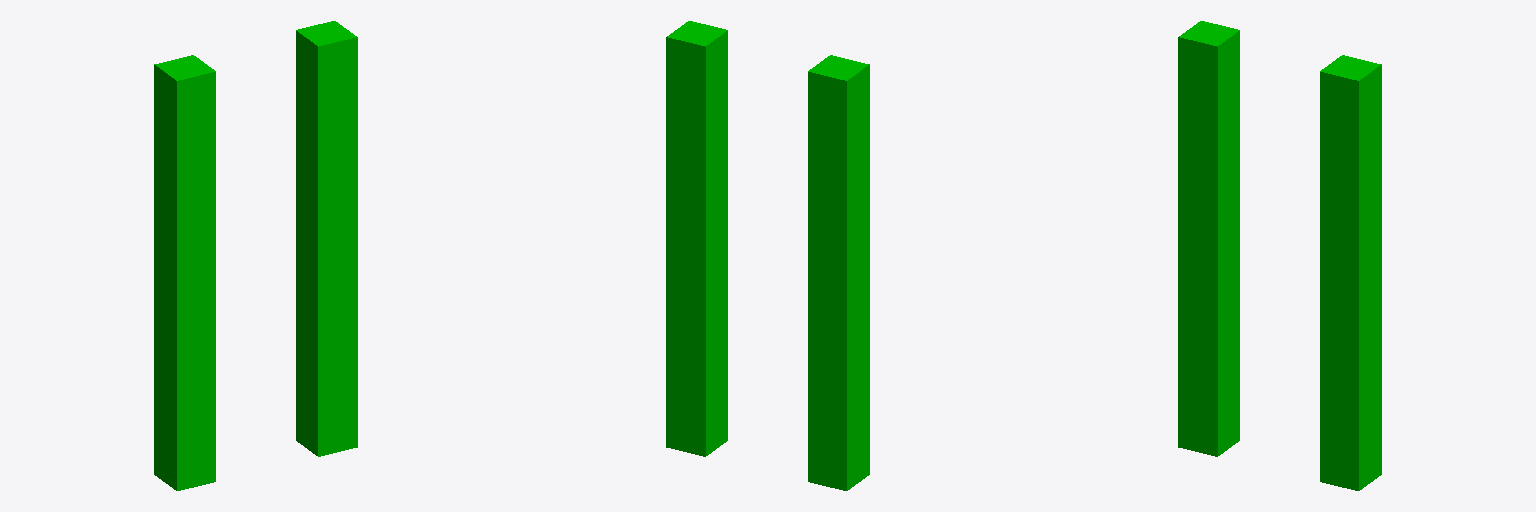
The robot description file, URDF, robot "origins":
<?xml version="1.0"?>
<robot name="origins">
  <material name="blue">
    <color rgba="0 0 0.8 1"/>
  </material>
  <material name="red">
    <color rgba="0.8 0 0 1"/>
  </material>
    <material name="green">
    <color rgba="0 0.8 0 1"/>
  </material>
  <link name="base_window">
    <visual>
      <origin rpy="1.5708 0 0" xyz="0 0 0"/>
      <geometry>
        <mesh filename="/meshes/window.dae"/>
      </geometry>
    </visual>
    <inertial>
        <mass value="10"/>
        <inertia ixx="0.015" iyy="0.0375" izz="0.0375" ixy="0" ixz="0" iyz="0"/>
     </inertial> 
    <collision>
      <origin rpy="1.5708 0 0" xyz="0 -0.01 0.052"/>
      <geometry>
        <box size="0.075 1.415 1.7"/>
      </geometry>
    </collision>
  </link>


<link name="base1">
    <visual>
       <origin rpy="0 0 0" xyz="0 0 0"/>
      <geometry>
        <box size="0.05 0.05 0.5"/>
      </geometry>
      <material name="green"/>
    </visual>
     <inertial>
        <mass value="0.116"/>
        <inertia ixx="0.015" iyy="0.0375" izz="0.0375" ixy="0" ixz="0" iyz="0"/>
     </inertial> 
    <collision>
      <geometry>
       <box size="0.05 0.05 0.5"/>
      </geometry>
    </collision>
  </link>


  <joint name="connect1" type="fixed">
    <parent link="base_window"/>
    <child link="base1"/>
    <origin xyz="0.09 0 0.8"/>
  </joint>

<link name="base2">
    <visual>
       <origin rpy="0 0 0" xyz="0 0 0"/>
      <geometry>
        <box size="0.05 0.05 0.5"/>
      </geometry>
      <material name="green"/>
    </visual>
     <inertial>
        <mass value="0.116"/>
        <inertia ixx="0.015" iyy="0.0375" izz="0.0375" ixy="0" ixz="0" iyz="0"/>
     </inertial> 
    <collision>
      <geometry>
       <box size="0.05 0.05 0.5"/>
      </geometry>
    </collision>
  </link>


  <joint name="connect2" type="fixed">
    <parent link="base_window"/>
    <child link="base2"/>
    <origin xyz="-0.09 0 0.8"/>
  </joint>


    
</robot>

--- Render facts (derived) ---
3 views of the same robot in one strip: view 1: azimuth 30°, elevation 25°; view 2: azimuth 150°, elevation 25°; view 3: azimuth 330°, elevation 25° (orthographic).
Robot: origins — 3 links, 2 joints (2 fixed); root link base_window; default pose: every joint at zero.
Visible links, largest first — view 1: base1, base2; view 2: base1, base2; view 3: base1, base2.
Link boxes in pixels (box(x1,y1,x2,y2)): base1: box(296, 21, 357, 456); base2: box(154, 55, 215, 490); base1: box(666, 21, 727, 456); base2: box(808, 55, 869, 490); base1: box(1320, 55, 1381, 490); base2: box(1178, 21, 1239, 456).
Size in the robot's own frame: 0.23 by 0.05 by 0.5 metres.
Geometry: only primitive shapes (box / cylinder / sphere) drawn; not drawn: 1 mesh visual (reference in a form the renderer does not follow).